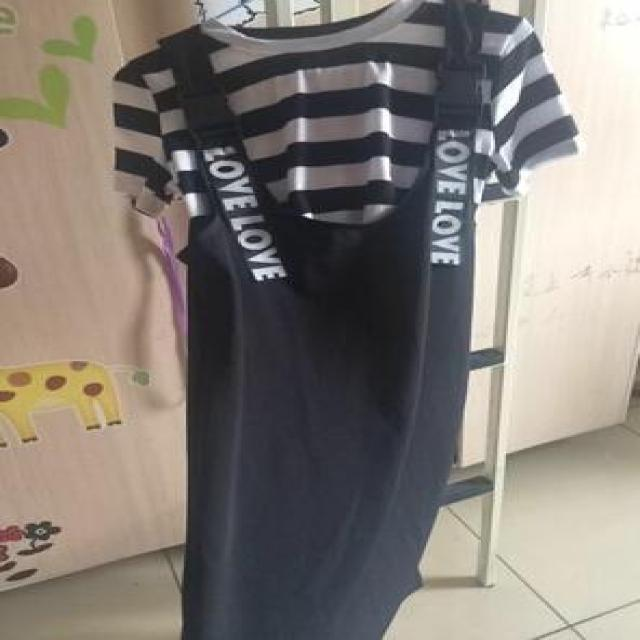short-sleeve-dress: (81, 24, 633, 323)
